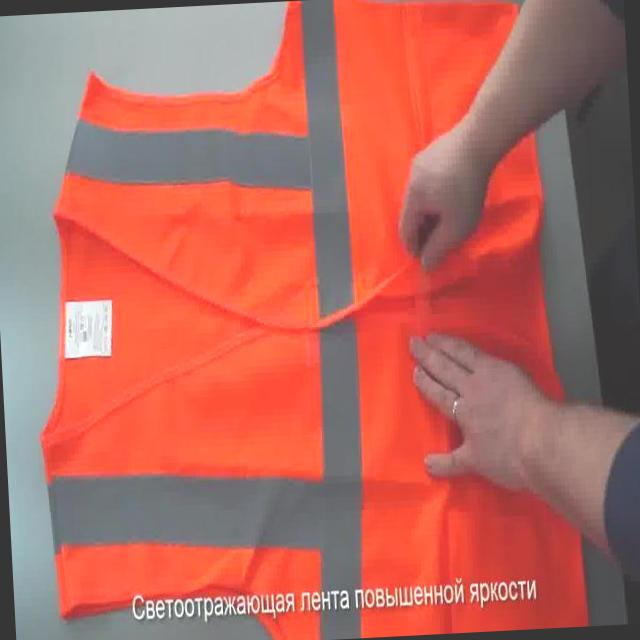vest: (17, 0, 591, 640)
